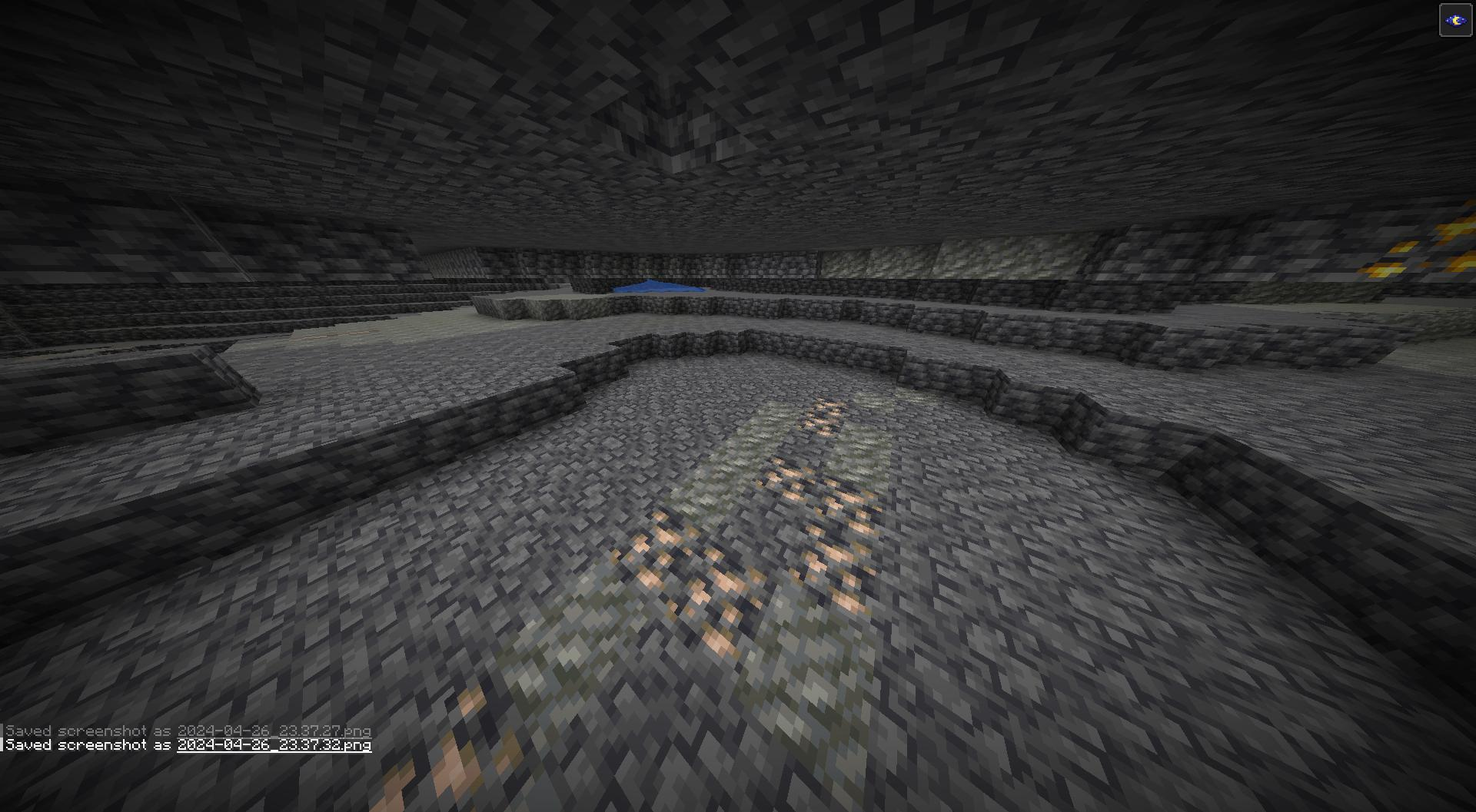gold ore: (1371, 207, 1476, 286)
iron ore: (346, 691, 534, 812), (668, 548, 778, 650), (793, 525, 881, 612), (613, 508, 698, 586), (809, 478, 891, 529), (761, 452, 817, 502), (797, 414, 843, 438), (808, 395, 846, 420)
